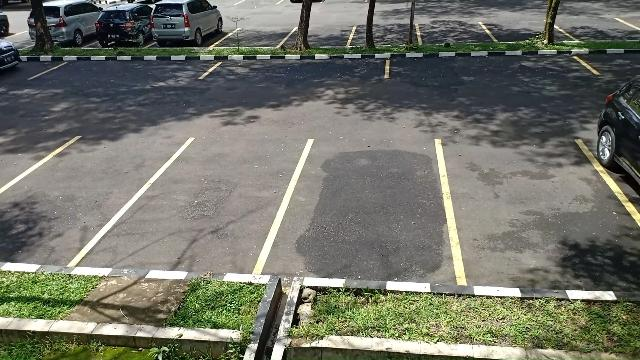empty: (440, 138, 636, 290), (290, 137, 450, 283), (130, 136, 294, 276), (9, 134, 135, 266), (385, 54, 589, 82), (203, 54, 389, 80), (44, 54, 204, 82), (562, 15, 640, 42), (486, 18, 564, 42), (224, 23, 292, 49), (418, 21, 488, 45), (289, 23, 351, 49), (352, 22, 418, 46)
occupied: (148, 6, 226, 48), (95, 8, 152, 48)
